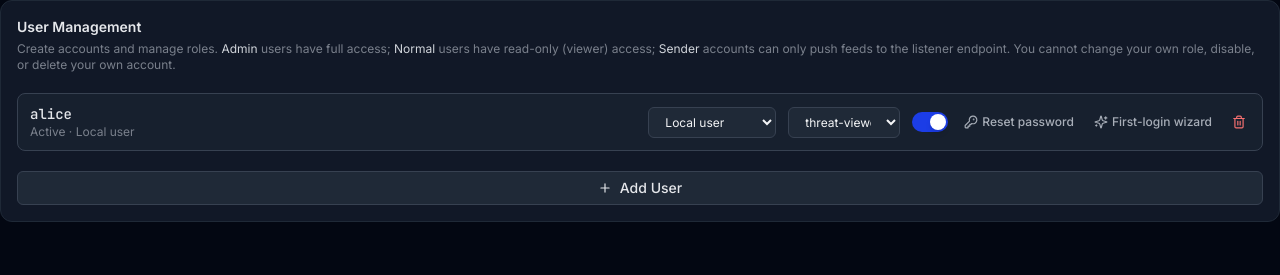
Test: UserManagementTab first-login wizard trigger (issue-local-038) › clicking "First-login wizard" resets the onboarded flag and shows a notice
Step 1. Click the button "First-login wizard" → (1153, 122), box [1090,110,1216,134]
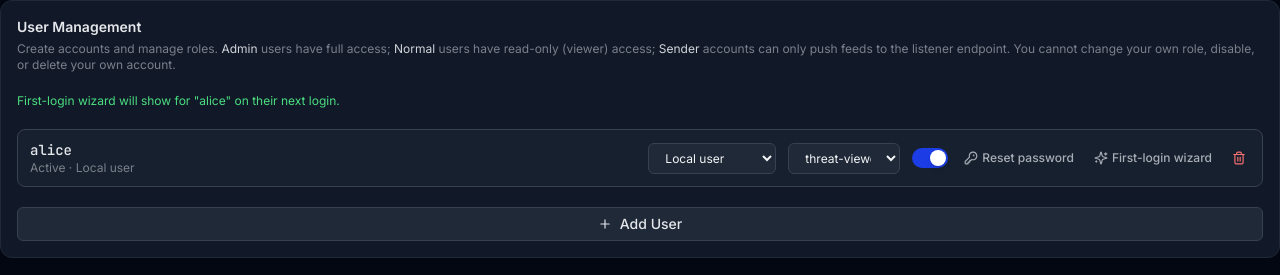
Result: the text "First-login wizard will show for \"alice\" on their next login." is shown at [17,93,340,108]
